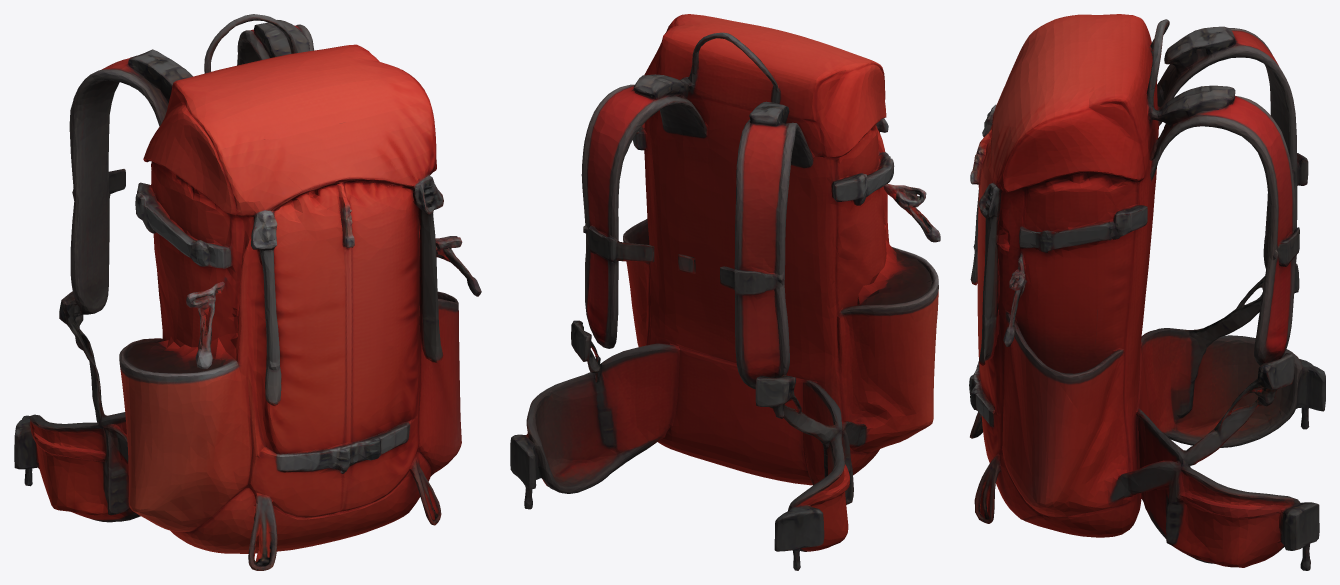
File: rucsac-creasta.glb
3 views of the same model, side by side, from view 1: azimuth 30°, elevation 25°; view 2: azimuth 150°, elevation 25°; view 3: azimuth 270°, elevation 25° (orthographic). The views are drawn at different scales.
Visible parts, largest first — view 1: geometry_0; view 2: geometry_0; view 3: geometry_0.
Boxes of the visible parts, x1,y1,x2,y2 form: geometry_0: (14, 14, 481, 570); geometry_0: (510, 14, 940, 570); geometry_0: (969, 14, 1325, 570).
Bounding box in the file's own units: 0.7179 × 0.9956 × 0.6649.
Materials: 1 (1 with a texture image).
